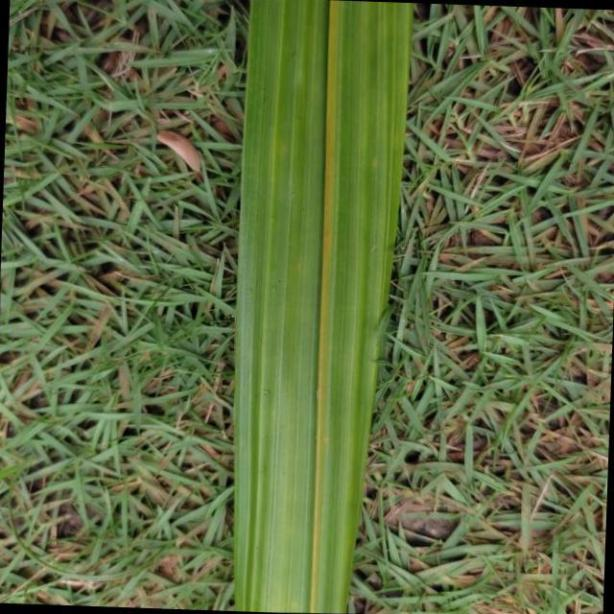nitrogen: (229, 0, 409, 614)
